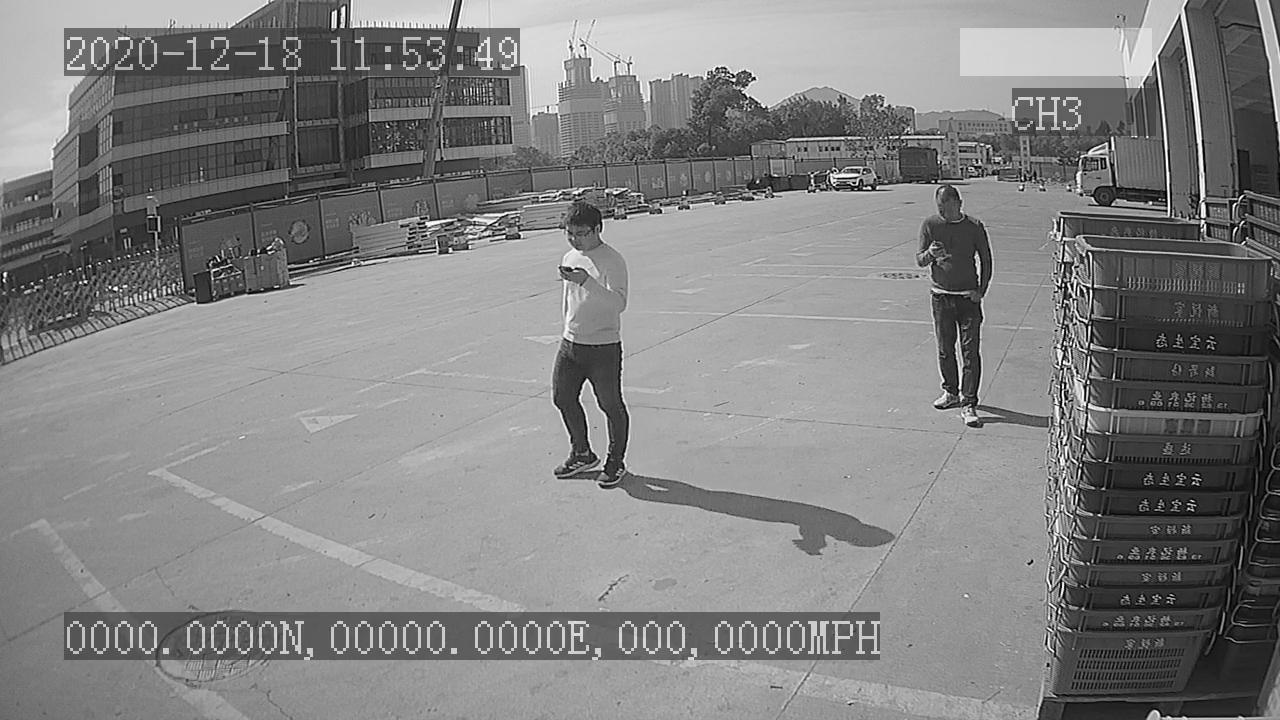person: (543, 199, 638, 495), (909, 179, 993, 438)
